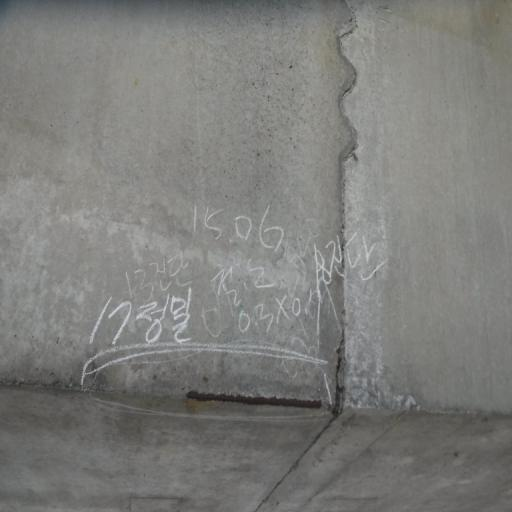exposed_rebar: (186, 391, 321, 409)
